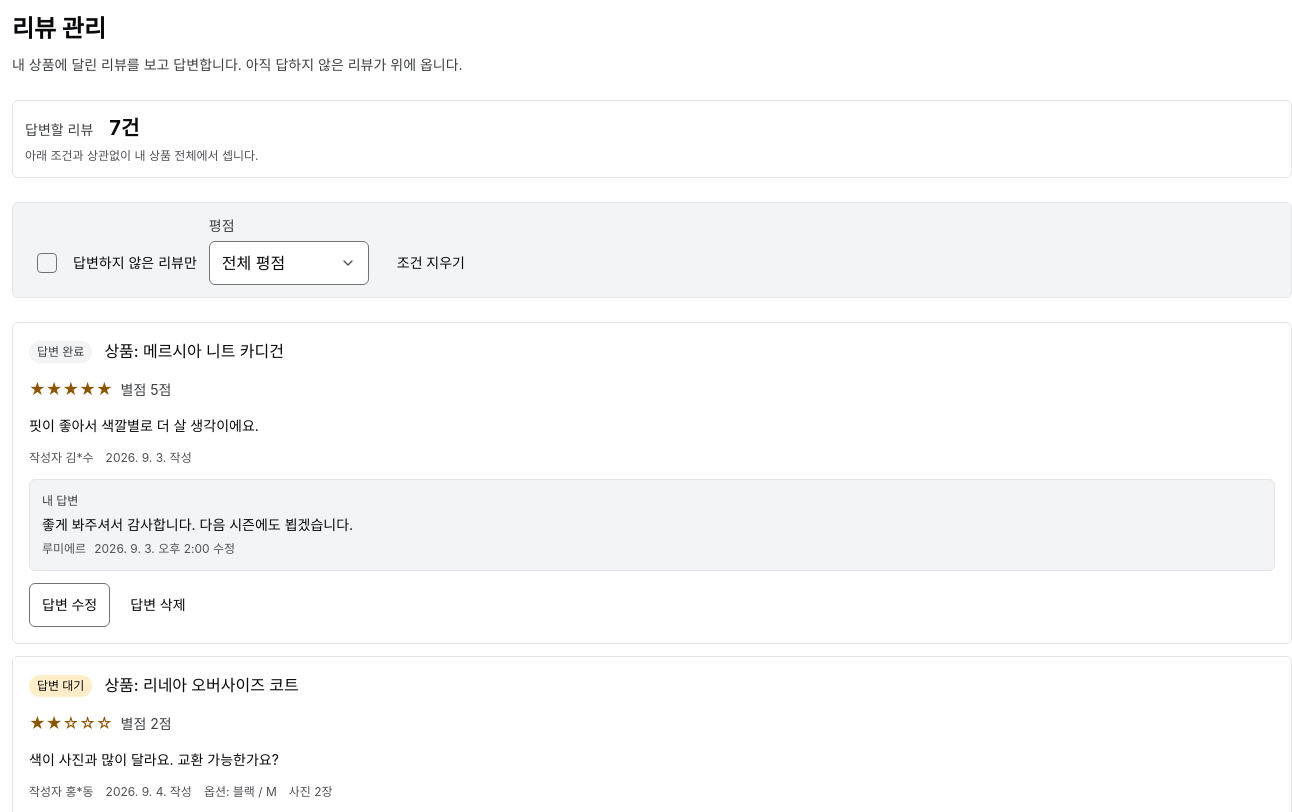
Test: 답변 고치기 (F3) › starts from what is already there rather than from a blank box
The width and height of the screenshot is (1292, 812).
Click the button "답변 수정". click: click(70, 605)
box: [29,583,110,627]
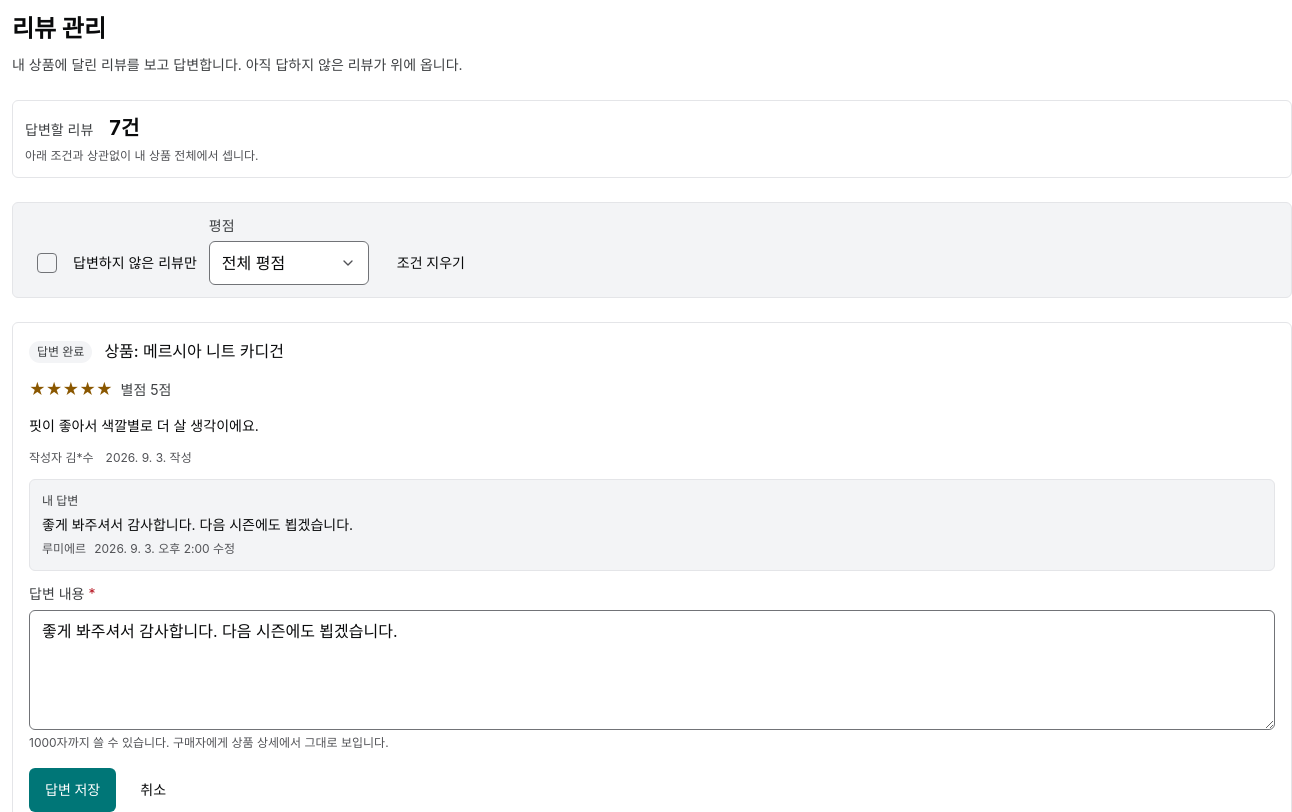
Check: the text box labelled "답변 내용" holds "좋게 봐주셔서 감사합니다. 다음 시즌에도 뵙겠습니다.", box [29,610,1275,730]
